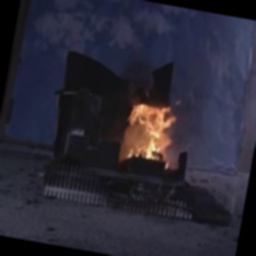fire: (112, 84, 185, 172)
